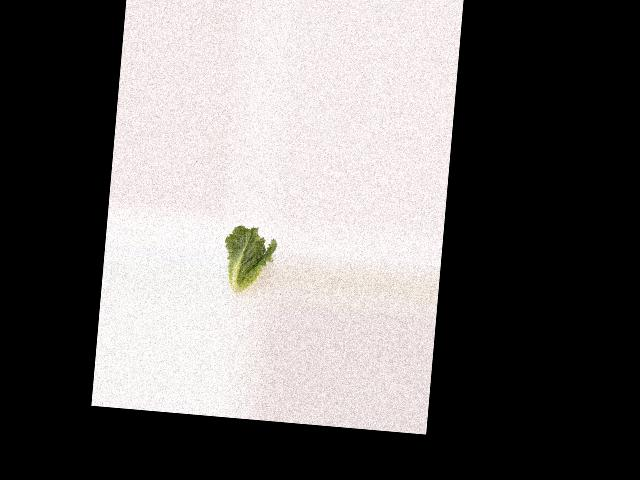lettuce: (218, 222, 276, 302)
